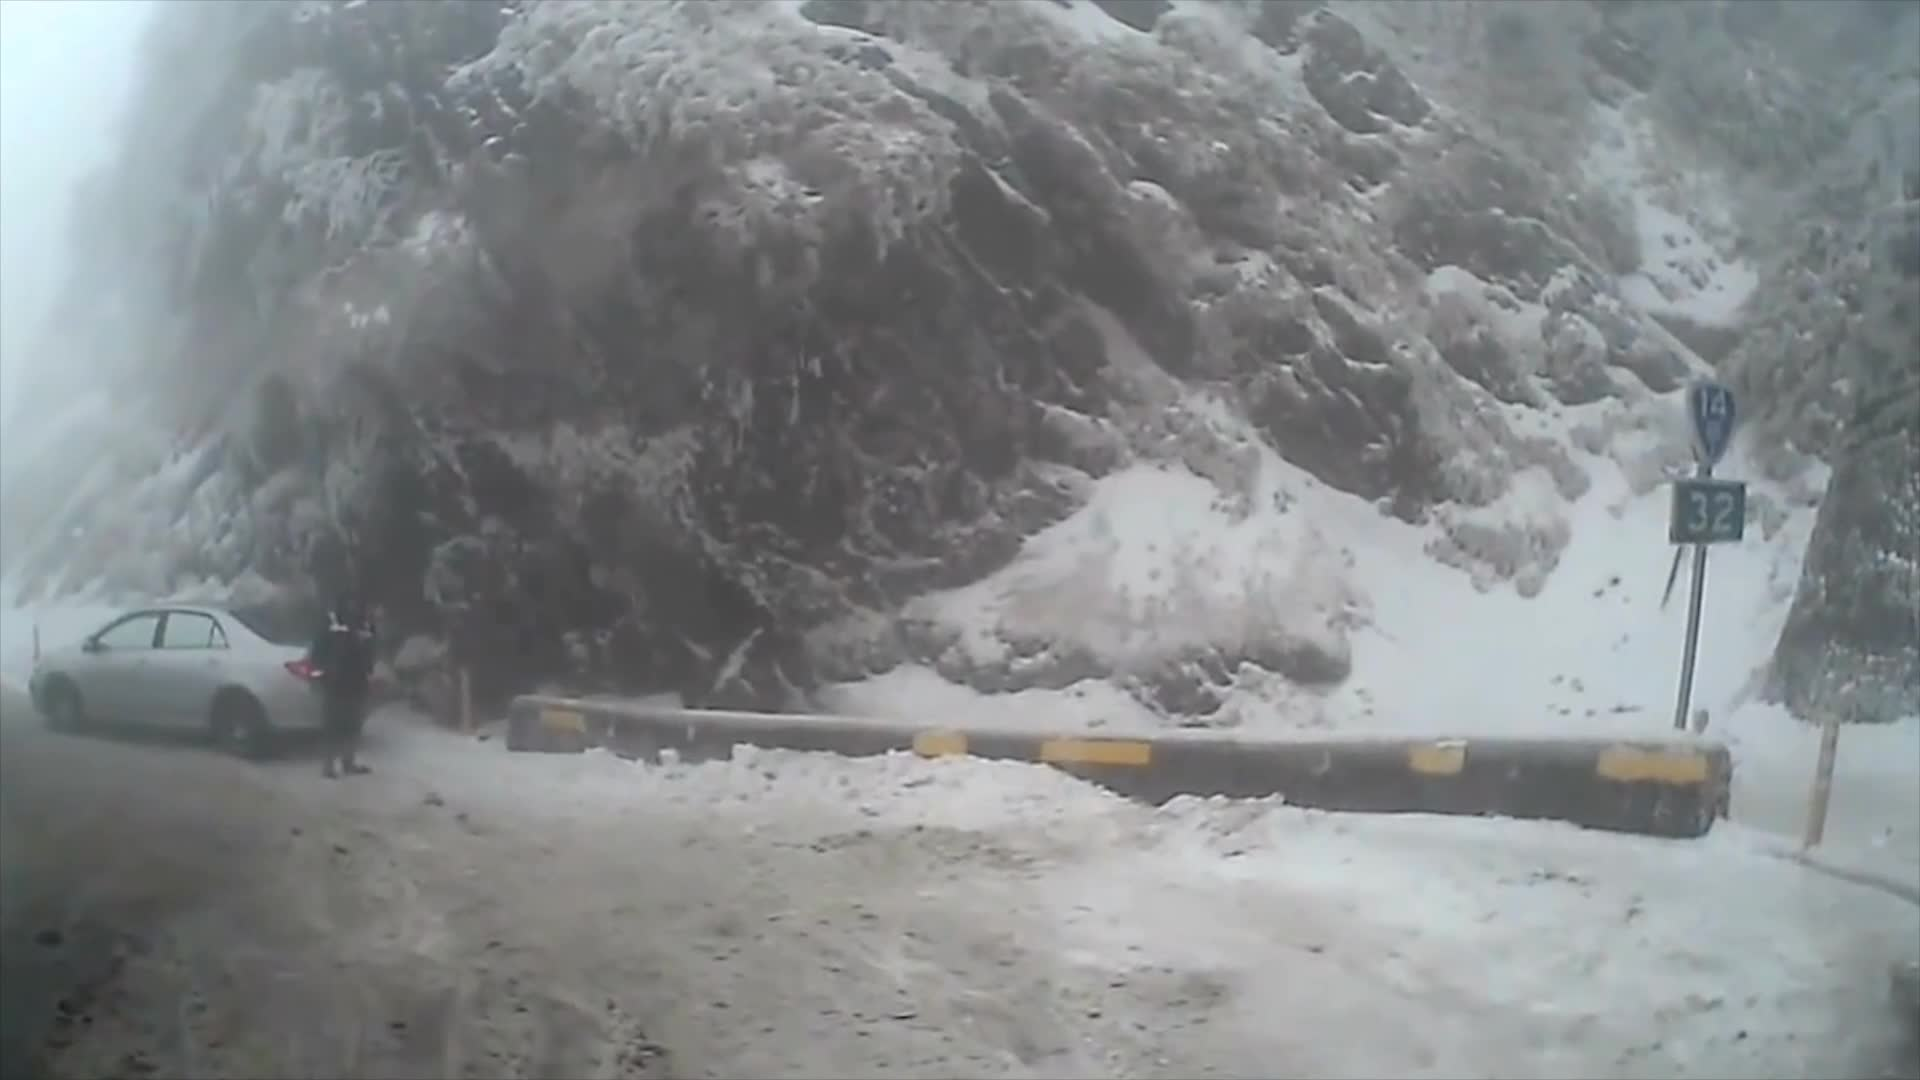pedestrian: (305, 581, 380, 778)
vehicle: (27, 597, 364, 761)
